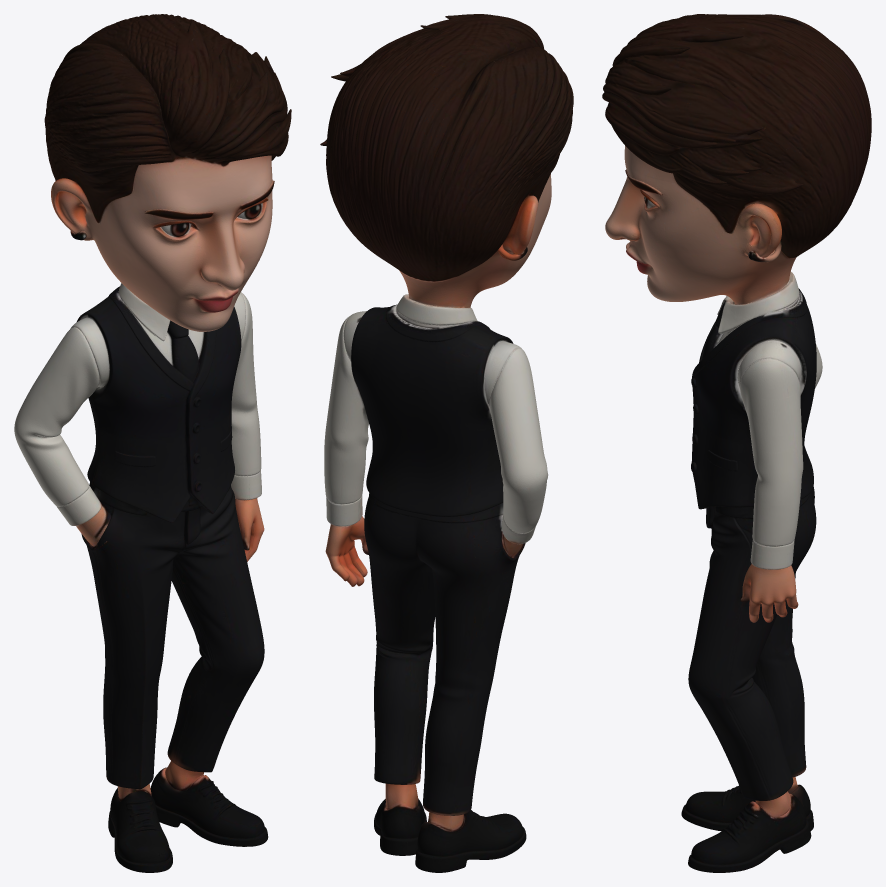
Rendered from bannyboy-model-3495.glb.
3 renders of one model, left to right at view 1: azimuth 30°, elevation 25°; view 2: azimuth 150°, elevation 25°; view 3: azimuth 270°, elevation 25°, orthographic.
Visible parts, largest first — view 1: Figure; view 2: Figure; view 3: Figure.
Boxes of the visible parts, box(x1,y1,x2,y2) form: Figure: box(14, 14, 291, 872); Figure: box(320, 14, 573, 872); Figure: box(602, 14, 871, 872).
Bounding box in the file's own units: 29.65 × 100 × 30.
Materials: 1 (1 with a texture image).
